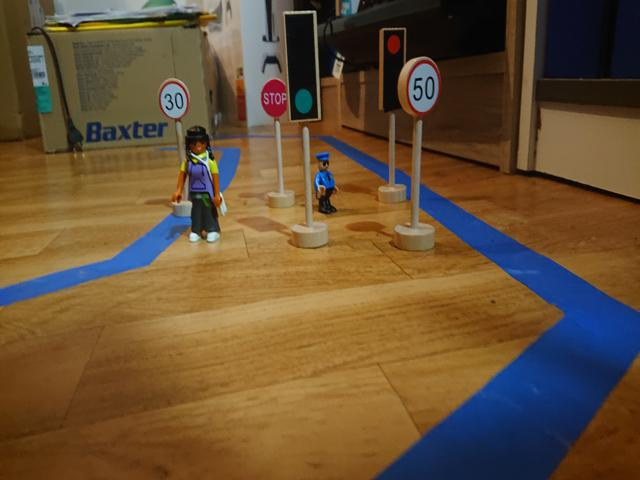30 speed sign: (160, 81, 188, 118)
50 speed sign: (405, 59, 442, 117)
green light: (286, 13, 321, 119)
person: (176, 125, 225, 243), (313, 150, 343, 215)
red light: (383, 31, 400, 106)
stop sign: (260, 81, 288, 117)
